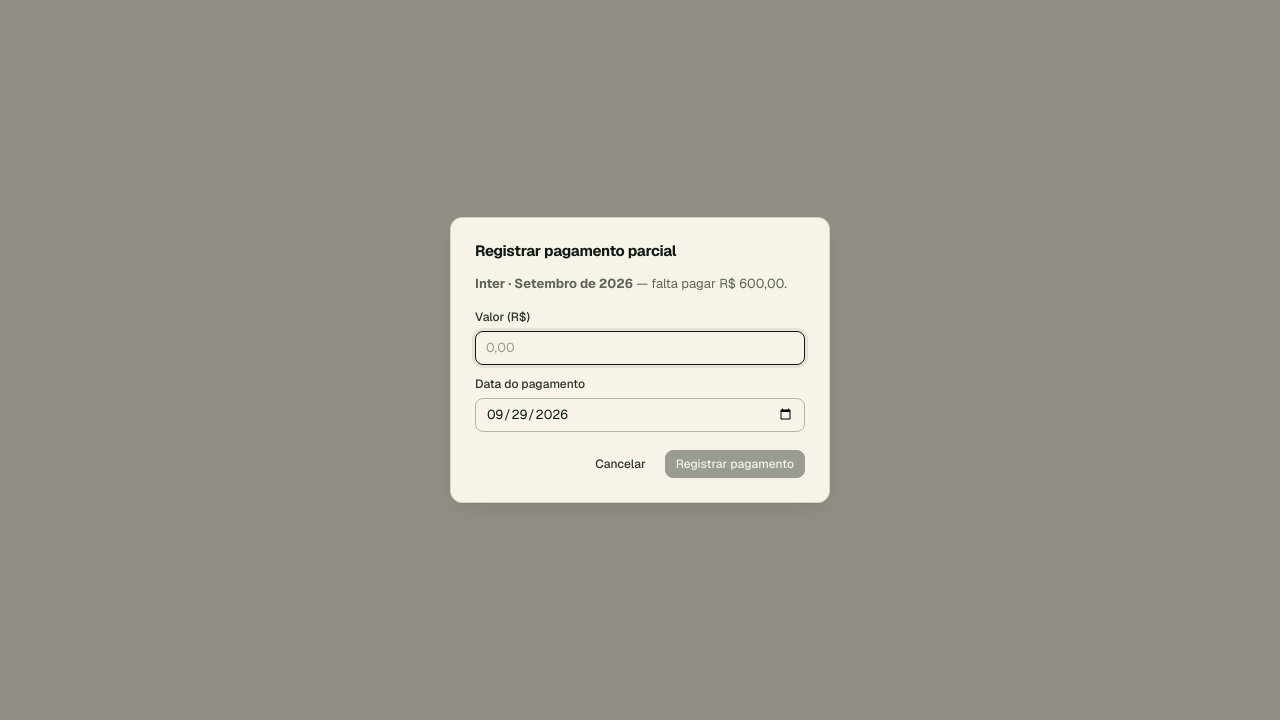
Test: RegistrarPagamentoParcialModal › o erro do main fica no diálogo, sem o prefixo do Electron
Type "200,00" into the field labelled "Valor (R$)". click: coordinates (640, 348)
box: [475, 331, 805, 365]
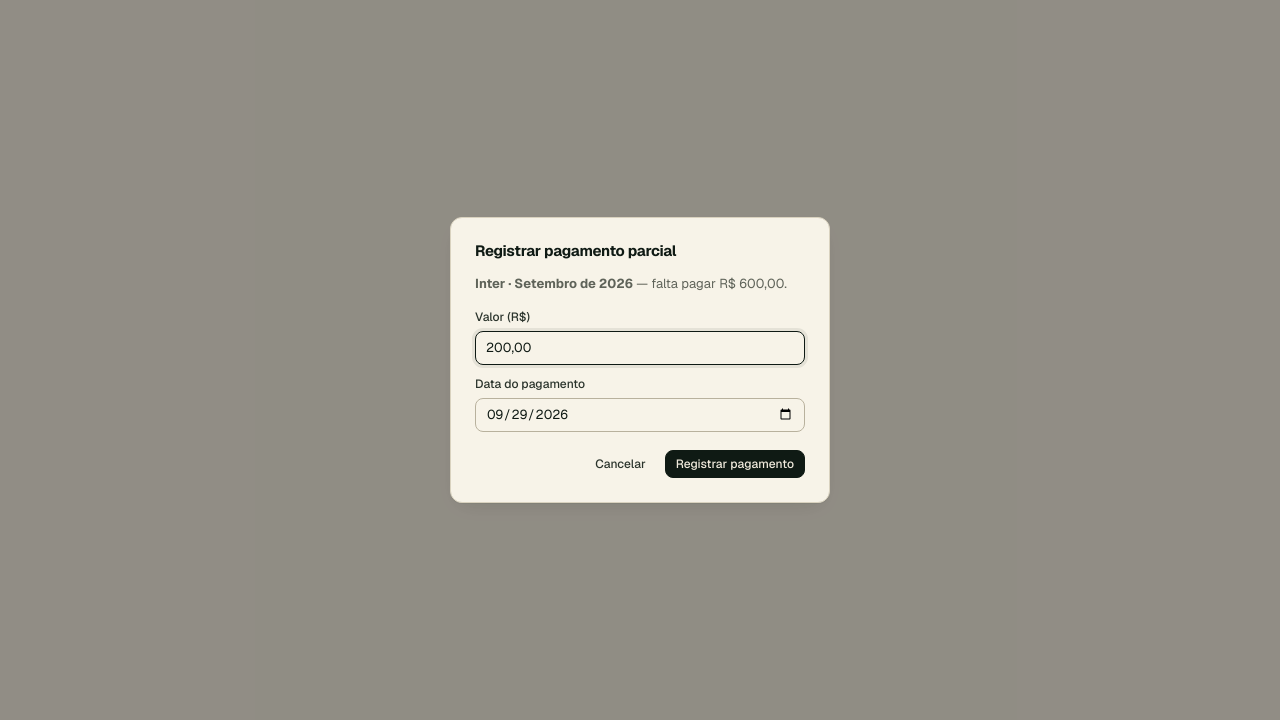
Click the button "Registrar pagamento". click: coordinates (735, 464)
box: [665, 450, 805, 478]
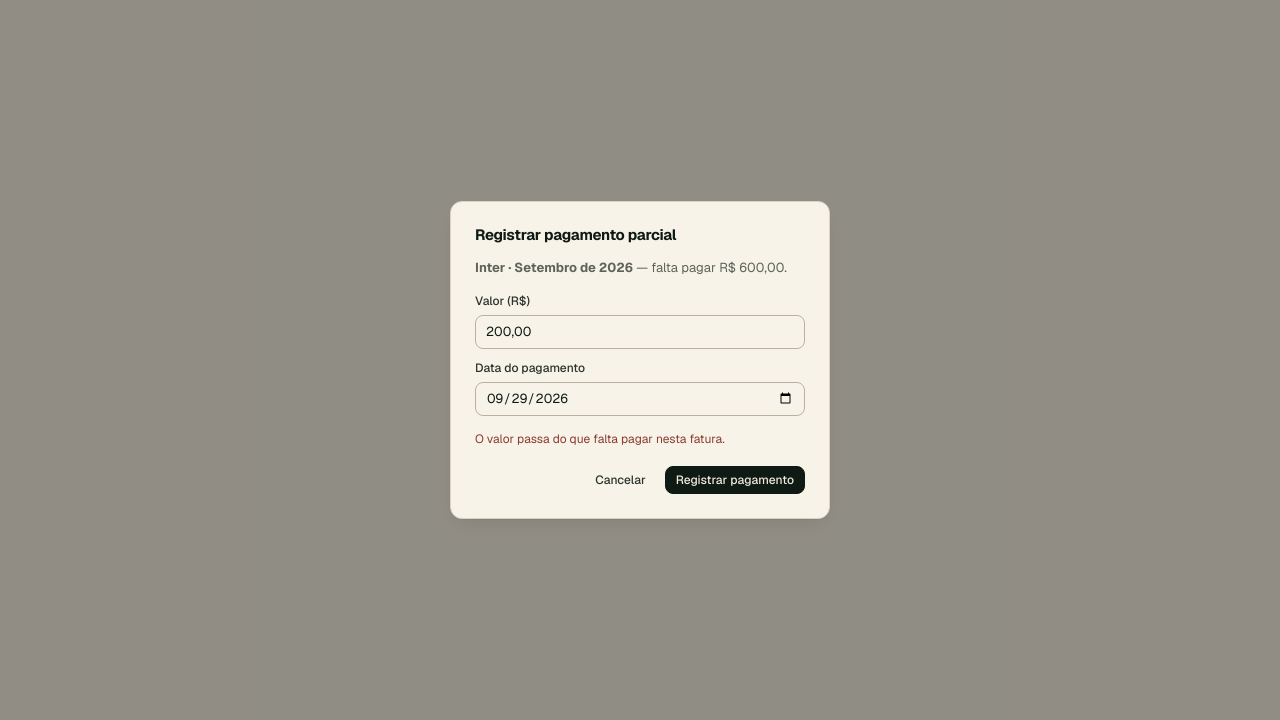
Check: the button "Registrar pagamento" is enabled, box [665, 466, 805, 494]
Check: the text "O valor passa do que falta pagar nesta fatura." is shown, box [475, 431, 725, 447]
